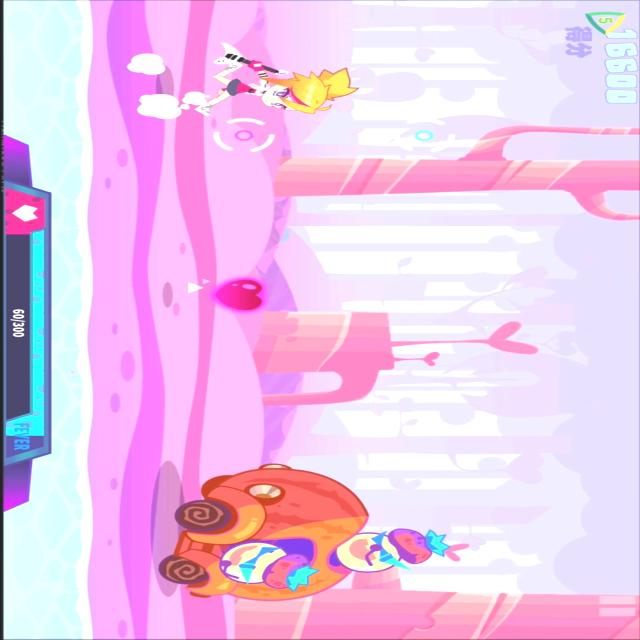Boss-Pumpkin: (152, 458, 460, 604)
incentive-heart: (198, 274, 272, 316)
